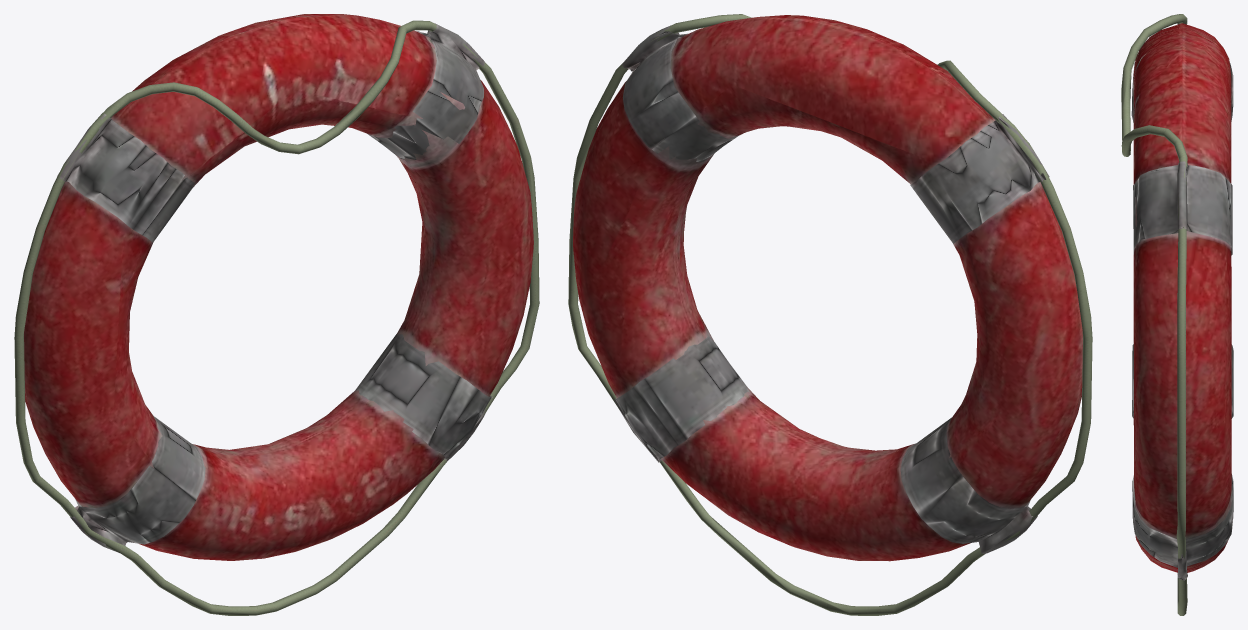
File: lifebuoy.glb
3 renders of one model, left to right at view 1: azimuth 30°, elevation 25°; view 2: azimuth 150°, elevation 25°; view 3: azimuth 270°, elevation 25°, orthographic. The views are drawn at different scales.
Parts seen in each view (by area): view 1: lifebuoy; view 2: lifebuoy; view 3: lifebuoy.
Boxes of the visible parts, x1,y1,x2,y2 form: lifebuoy: (14, 14, 539, 615); lifebuoy: (568, 14, 1092, 615); lifebuoy: (1121, 14, 1233, 615).
Size of the model in its own units: 0.783 by 0.8412 by 0.1548.
1 material, 1 textured.
